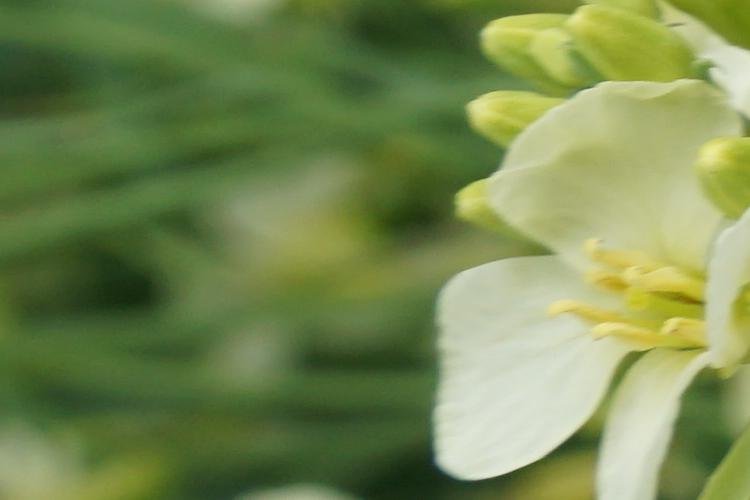bud: (577, 7, 703, 102), (471, 12, 616, 88), (455, 80, 572, 141), (698, 134, 750, 222)
white: (433, 91, 750, 473)
